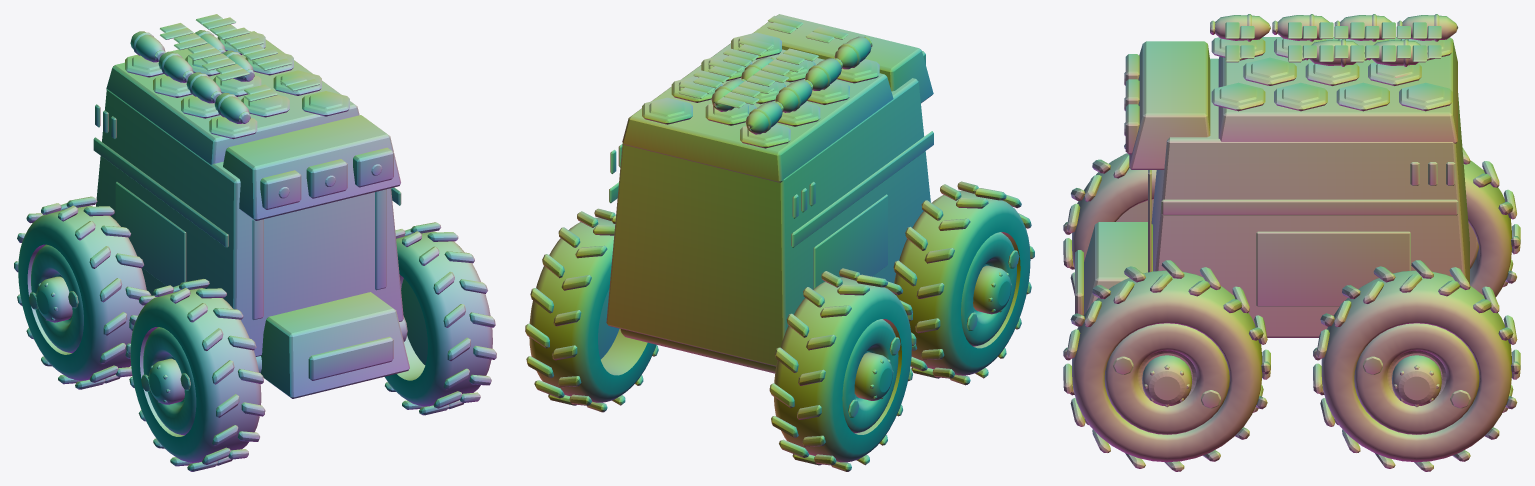
Rendered from hive_rig.glb.
3 renders of one model, left to right at view 1: azimuth 30°, elevation 25°; view 2: azimuth 150°, elevation 25°; view 3: azimuth 270°, elevation 25°, orthographic. The views are drawn at different scales.
Visible parts, largest first — view 1: body, wheel_1, wheel_3, wheel_0, drone_3, drone_2, drone_0, drone_1, drone_5, drone_4; view 2: body, wheel_3, wheel_1, wheel_2, drone_0, drone_3, drone_2, drone_1, drone_4, drone_5; view 3: body, wheel_2, wheel_0, wheel_3, wheel_1, drone_3, drone_0, drone_2, drone_1, drone_4, drone_5.
Boxes of the visible parts, <box> form: body: <box>93,31,409,398</box>; wheel_1: <box>126,279,265,471</box>; wheel_3: <box>14,196,151,389</box>; wheel_0: <box>384,222,496,415</box>; drone_3: <box>214,76,320,123</box>; drone_2: <box>186,55,292,103</box>; drone_0: <box>130,14,235,62</box>; drone_1: <box>158,34,264,82</box>; drone_5: <box>201,45,277,81</box>; drone_4: <box>173,24,249,53</box>; body: <box>606,14,933,373</box>; wheel_3: <box>769,268,916,471</box>; wheel_1: <box>893,181,1034,385</box>; wheel_2: <box>525,208,658,412</box>; drone_0: <box>678,81,783,134</box>; drone_3: <box>767,15,872,69</box>; drone_2: <box>738,37,842,90</box>; drone_1: <box>708,59,812,112</box>; drone_4: <box>693,70,773,111</box>; drone_5: <box>723,48,803,85</box>; body: <box>1075,37,1469,337</box>; wheel_2: <box>1313,260,1520,471</box>; wheel_0: <box>1063,260,1270,471</box>; wheel_3: <box>1462,147,1520,305</box>; wheel_1: <box>1063,144,1156,295</box>; drone_3: <box>1210,14,1270,62</box>; drone_0: <box>1397,14,1458,62</box>; drone_2: <box>1272,14,1329,62</box>; drone_1: <box>1334,14,1391,62</box>; drone_4: <box>1367,22,1427,66</box>; drone_5: <box>1305,22,1364,66</box>.
Size of the model in its own units: 6.76 by 6.63 by 7.7.
